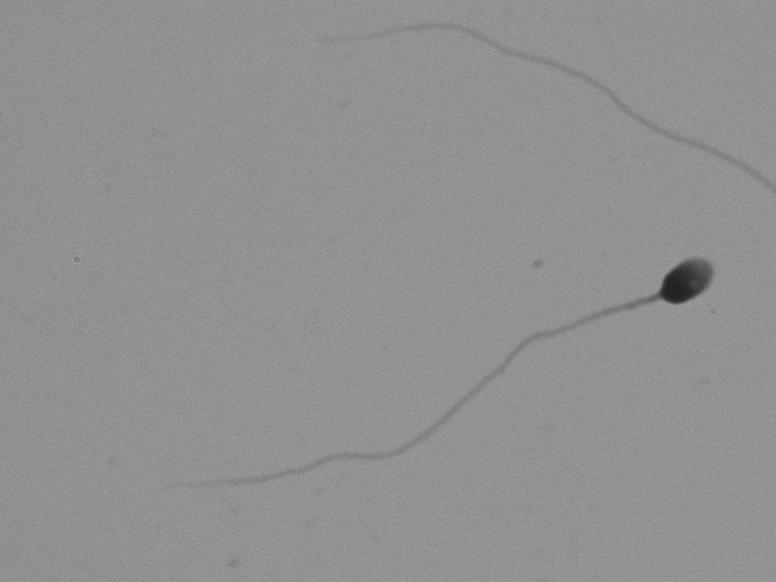Normal: (127, 223, 740, 500)
